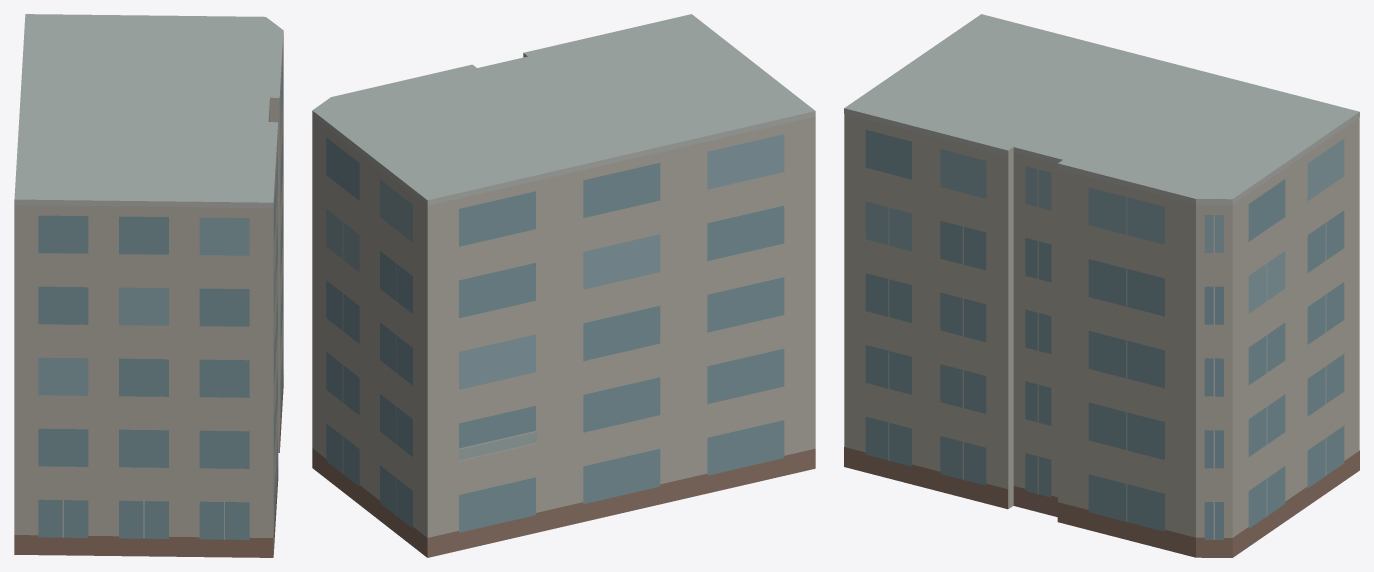
The model's file is survey-upis-33014552.glb.
The picture shows the model from 3 angles, left to right: view 1: azimuth 30°, elevation 25°; view 2: azimuth 150°, elevation 25°; view 3: azimuth 270°, elevation 25°; orthographic projection.
Visible parts, largest first — view 1: survey-upis-33014552.tmp; view 2: survey-upis-33014552.tmp; view 3: survey-upis-33014552.tmp.
Boxes of the visible parts, bbox=[...] form: survey-upis-33014552.tmp: bbox=[14, 14, 283, 557]; survey-upis-33014552.tmp: bbox=[312, 14, 815, 557]; survey-upis-33014552.tmp: bbox=[844, 14, 1359, 557].
Bounding box in the file's own units: 17.5 × 15.8 × 20.59.
